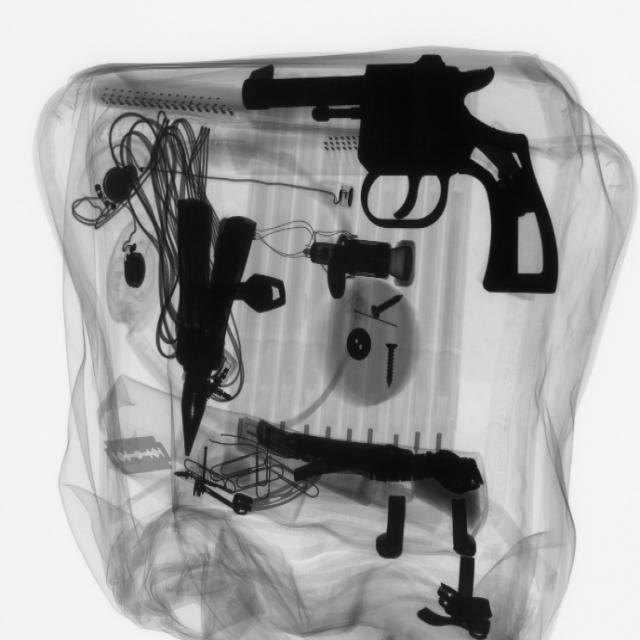BLADE: (99, 430, 182, 480)
GUN: (243, 59, 571, 304)
SCREW: (377, 335, 410, 393), (368, 286, 414, 326)
